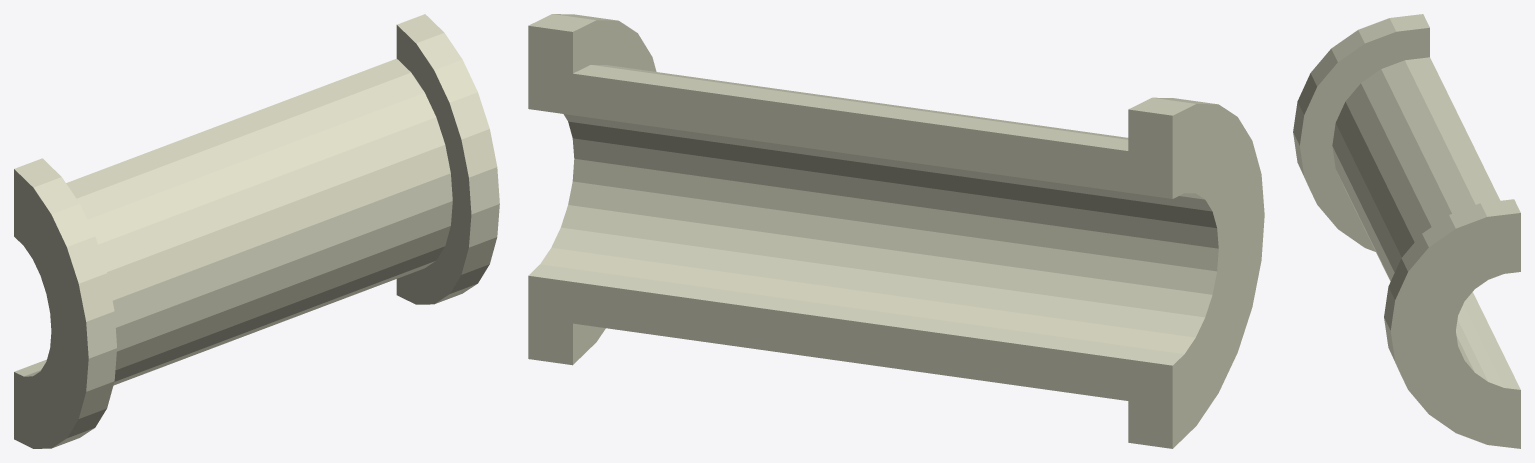
Rendered from section_005.obj.
The picture shows the model from 3 angles, left to right: view 1: azimuth 30°, elevation 25°; view 2: azimuth 150°, elevation 25°; view 3: azimuth 270°, elevation 25°; orthographic projection. The views are drawn at different scales.
Size of the model in its own units: 14.46 by 8 by 7.
